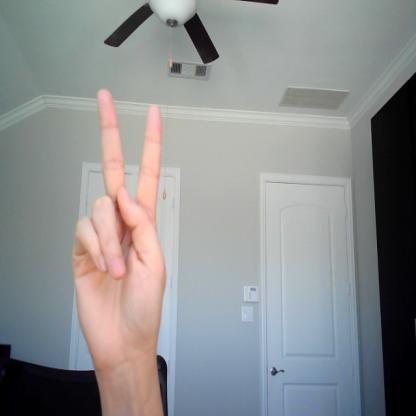K: (64, 84, 165, 361)
